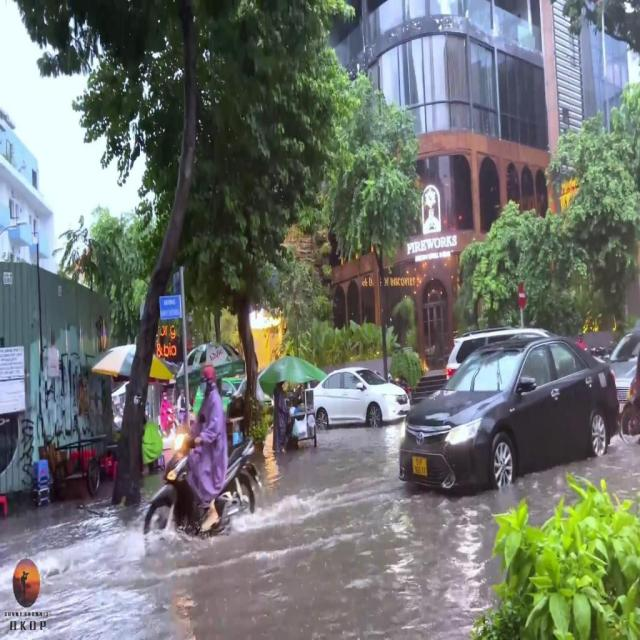cam_xe_di_nguoc_chieu: (517, 280, 527, 308)
